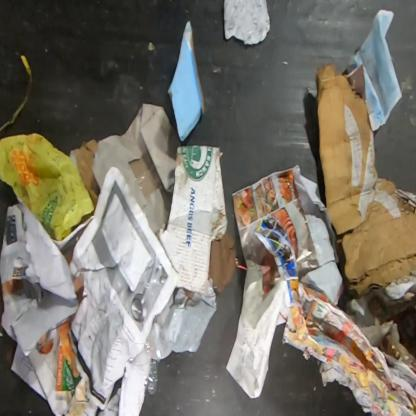cardboard: (316, 62, 415, 299), (156, 144, 229, 302)
soft_plastic: (144, 335, 161, 395)
